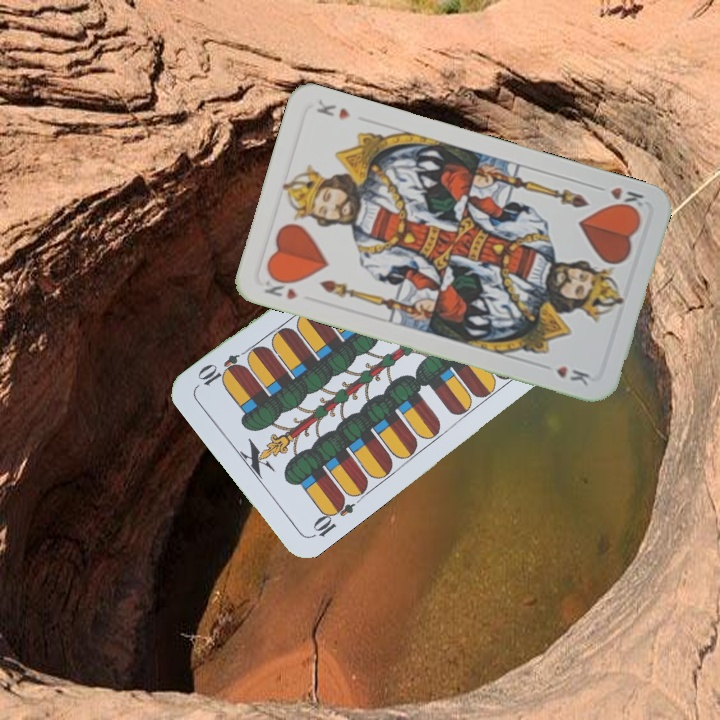E10: (307, 492, 357, 541)
HK: (602, 183, 648, 215), (260, 271, 301, 303)
